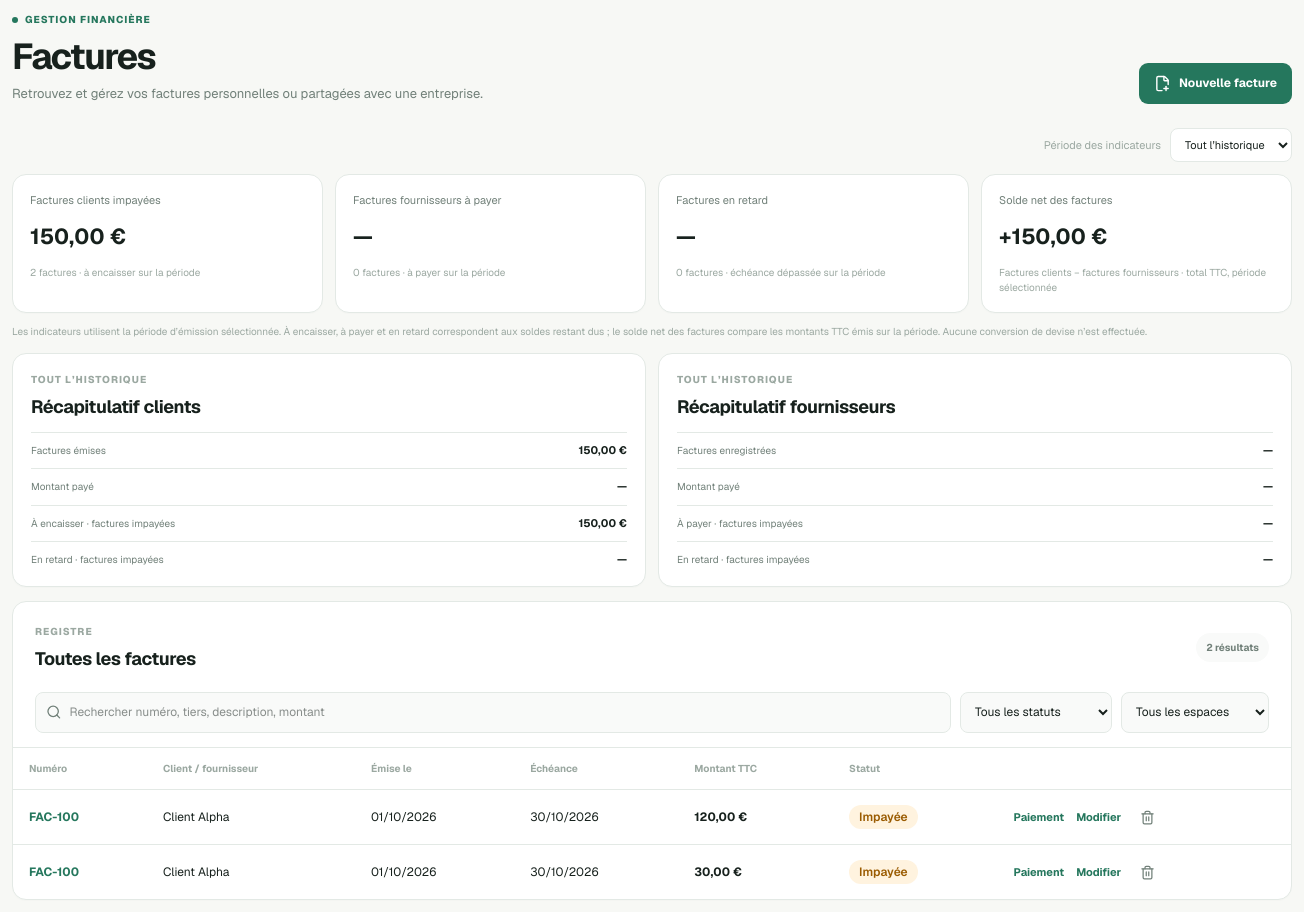
Test case: invoice manager › scopes overview figures to the existing workspace filter
The width and height of the screenshot is (1304, 912).
Expected: the link "Factures clients impayées" shows "150,00", [12,174,323,313]
Select "Espace personnel" in the dropdown named "Filtrer par espace" at point(1195, 712), box [1121,692,1269,733]
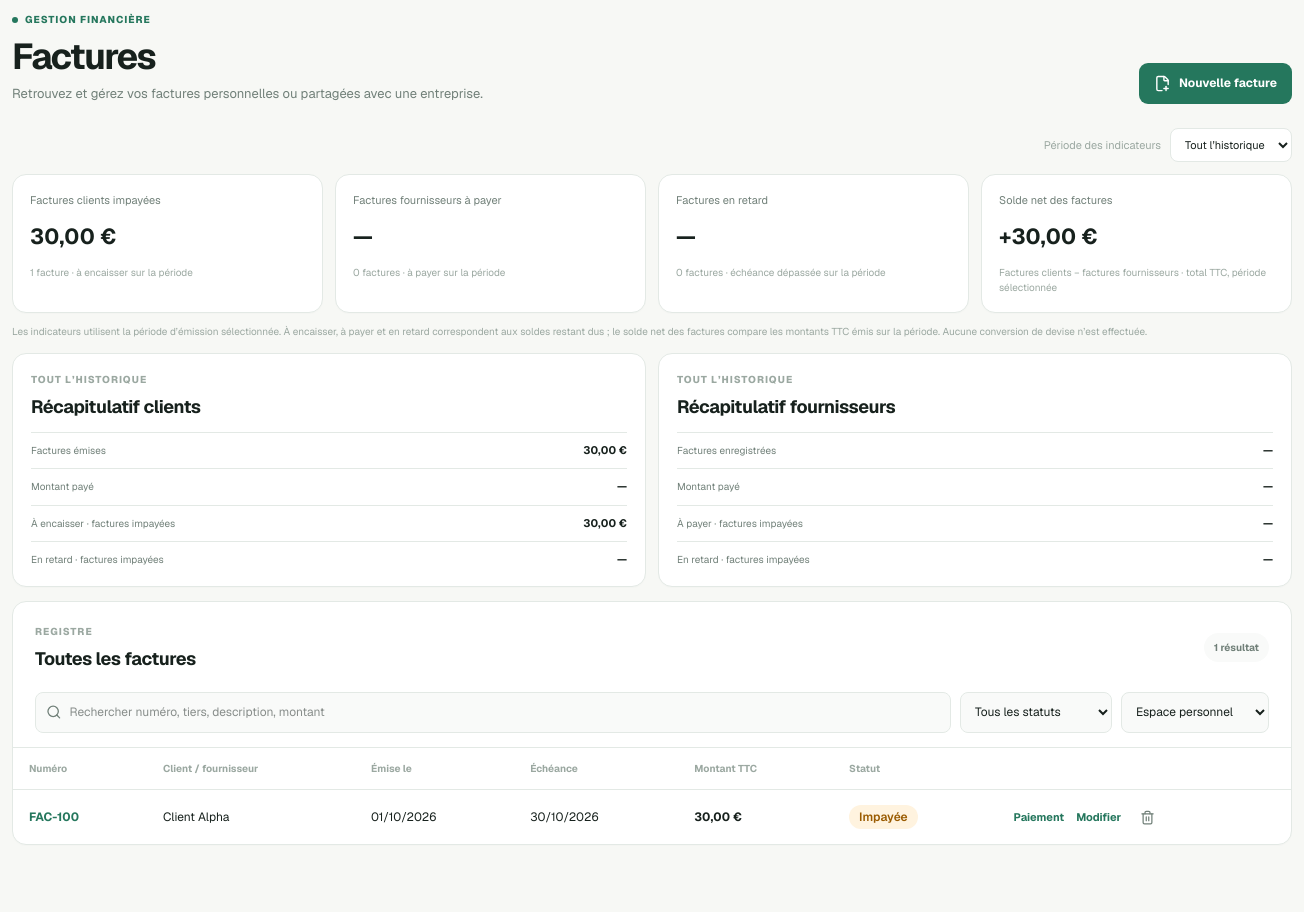
Now the link "Factures clients impayées" shows "30,00", box [12,174,323,313]
